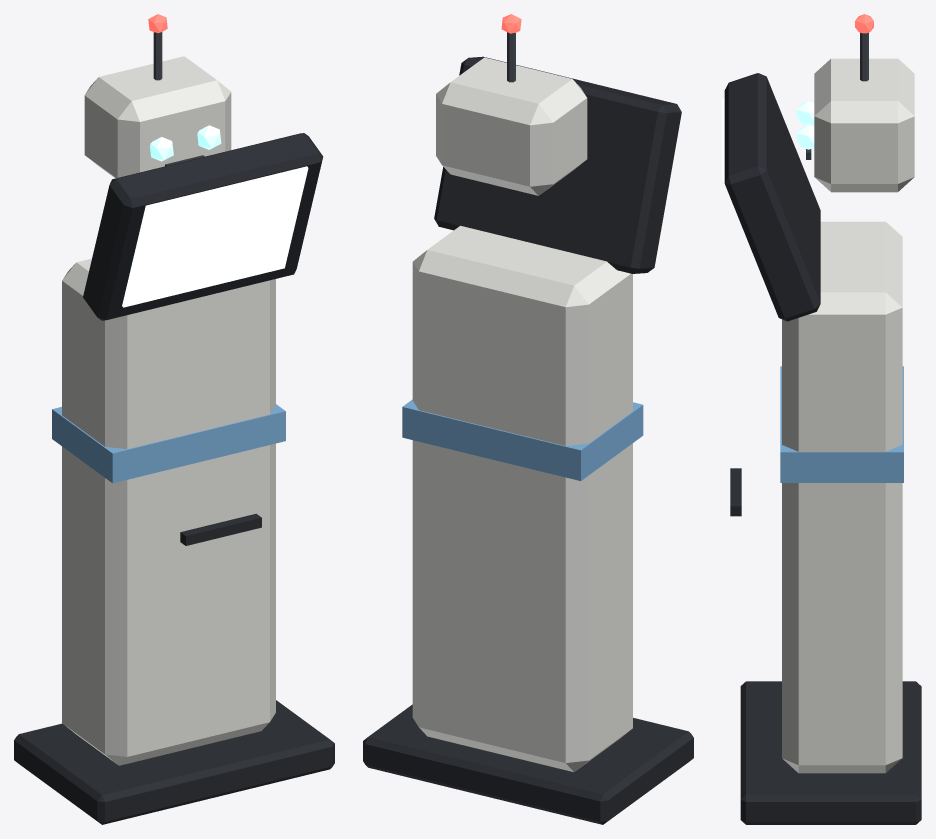
File: selfservice_p1_4.glb
3 renders of one model, left to right at view 1: azimuth 30°, elevation 25°; view 2: azimuth 150°, elevation 25°; view 3: azimuth 270°, elevation 25°, orthographic. The views are drawn at different scales.
Parts seen in each view (by area): view 1: selfservice_p1_4_mesh; view 2: selfservice_p1_4_mesh; view 3: selfservice_p1_4_mesh.
Boxes of the visible parts, bbox=[...] form: selfservice_p1_4_mesh: bbox=[14, 14, 334, 824]; selfservice_p1_4_mesh: bbox=[363, 14, 693, 824]; selfservice_p1_4_mesh: bbox=[722, 14, 921, 824].
Bounding box in the file's own units: 0.5 × 1.49 × 0.3563.
